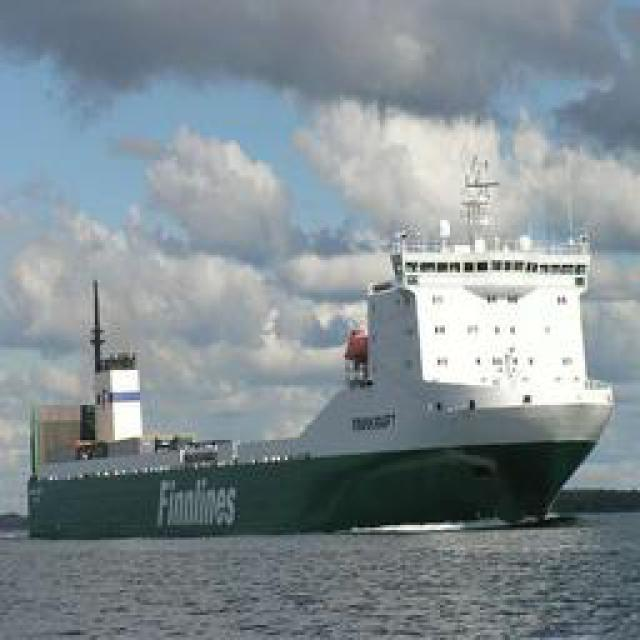Ship: (24, 153, 616, 545)
